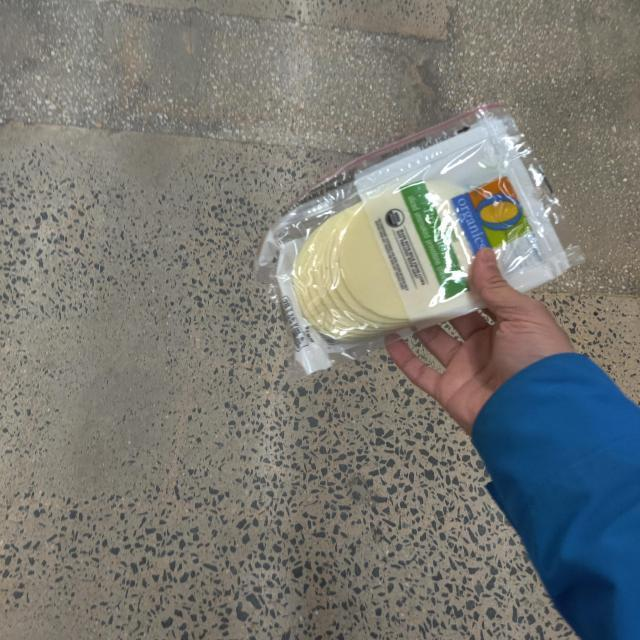Cheese: (257, 105, 570, 361)
